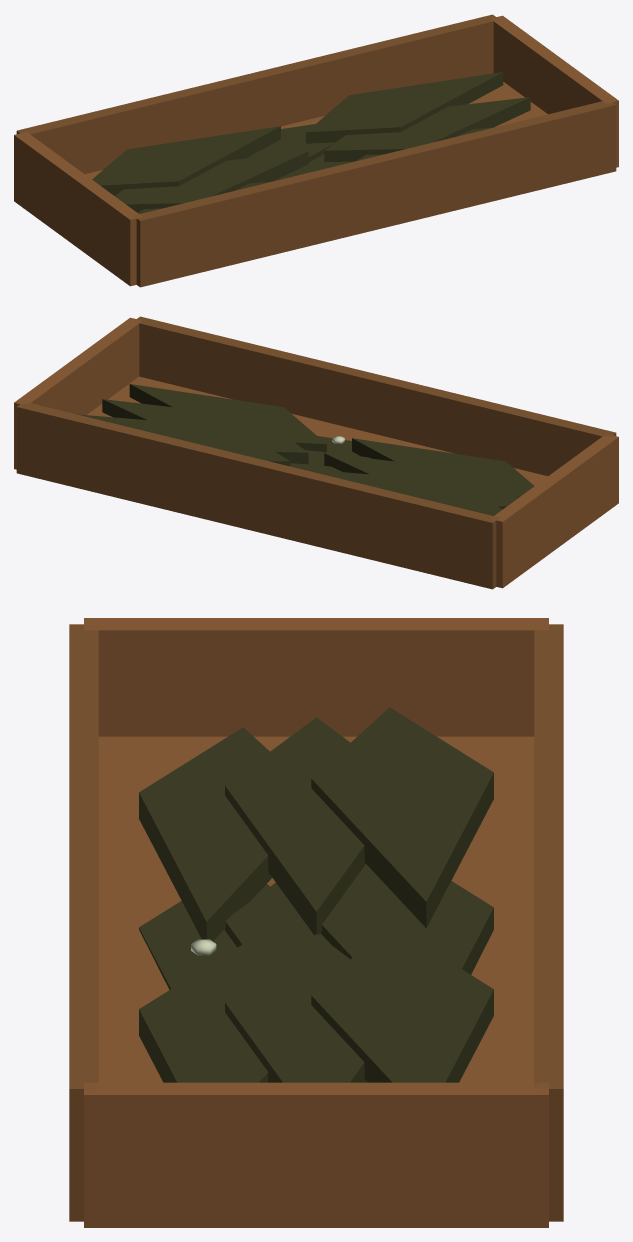
Rendered from Sea_Kelp.fbx.
3 renders of one model, top to bottom at view 1: azimuth 30°, elevation 25°; view 2: azimuth 150°, elevation 25°; view 3: azimuth 270°, elevation 25°, orthographic. The views are drawn at different scales.
Visible parts, largest first — view 1: Sea_Kelp__Stack, Sea_Kelp; view 2: Sea_Kelp__Stack, Sea_Kelp; view 3: Sea_Kelp__Stack, Sea_Kelp.
Part boxes in pixels (x1,y1,x2,y2): Sea_Kelp__Stack: (14, 14, 618, 287); Sea_Kelp: (246, 124, 353, 181); Sea_Kelp__Stack: (14, 316, 618, 589); Sea_Kelp: (290, 436, 370, 471); Sea_Kelp__Stack: (69, 618, 563, 1227); Sea_Kelp: (139, 864, 493, 989).
Bounding box in the file's own units: 0.308 × 0.04 × 0.1349.
